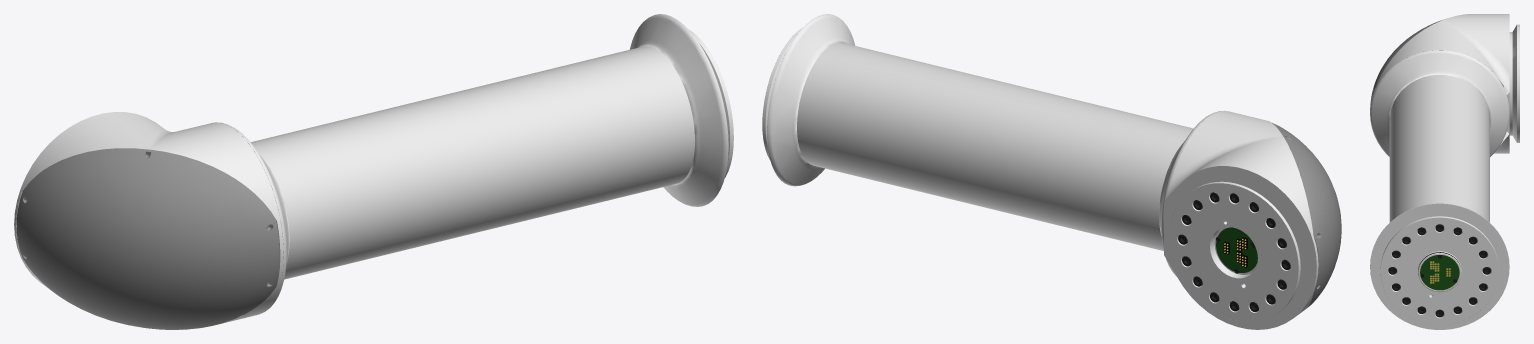
3 renders of one model, left to right at view 1: azimuth 30°, elevation 25°; view 2: azimuth 150°, elevation 25°; view 3: azimuth 270°, elevation 25°, orthographic. The views are drawn at different scales.
Parts seen in each view (by area): view 1: L148.001; view 2: L148.001; view 3: L148.001.
Part boxes in pixels (x1,y1,x2,y2): L148.001: [14, 14, 733, 329]; L148.001: [762, 14, 1341, 329]; L148.001: [1370, 14, 1519, 329].
Size of the model in its own units: 0.5486 by 0.148 by 0.1589.
